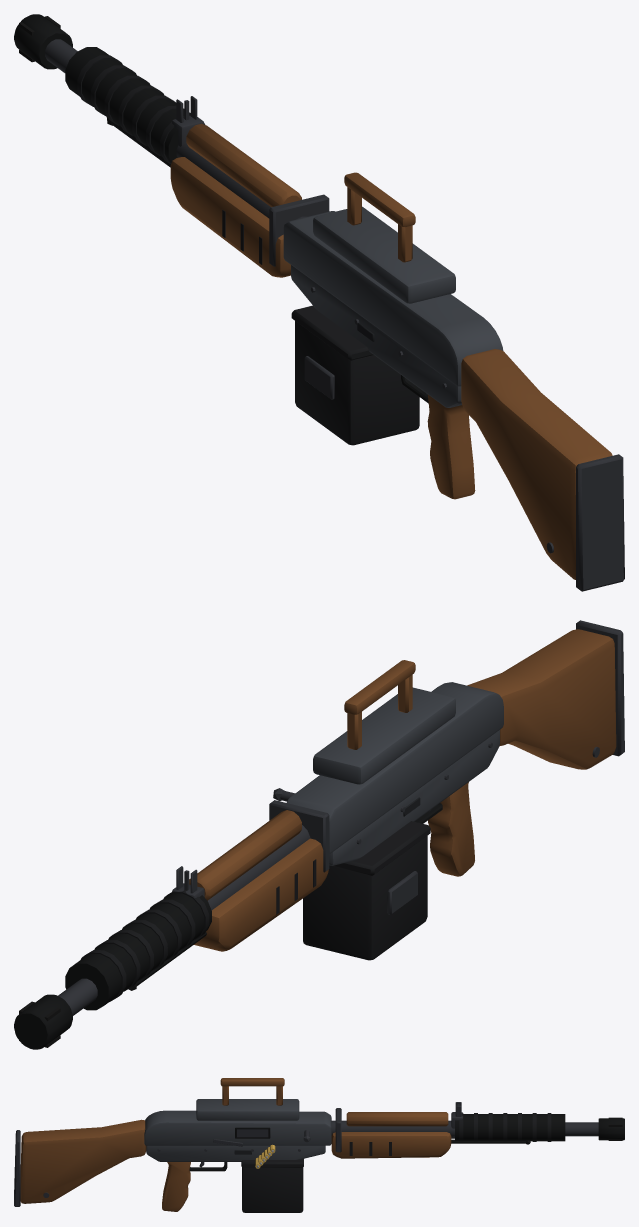
Rendered from gun_18.glb.
3 renders of one model, top to bottom at view 1: azimuth 30°, elevation 25°; view 2: azimuth 150°, elevation 25°; view 3: azimuth 270°, elevation 25°, orthographic. The views are drawn at different scales.
Parts seen in each view (by area): view 1: gun_18; view 2: gun_18; view 3: gun_18.
Part boxes in pixels (left/top/right/bottom): gun_18: left=14, top=14, right=624, bottom=591; gun_18: left=14, top=620, right=624, bottom=1049; gun_18: left=14, top=1078, right=624, bottom=1212.
Size of the model in its own units: 0.1242 by 0.2943 by 1.25.
